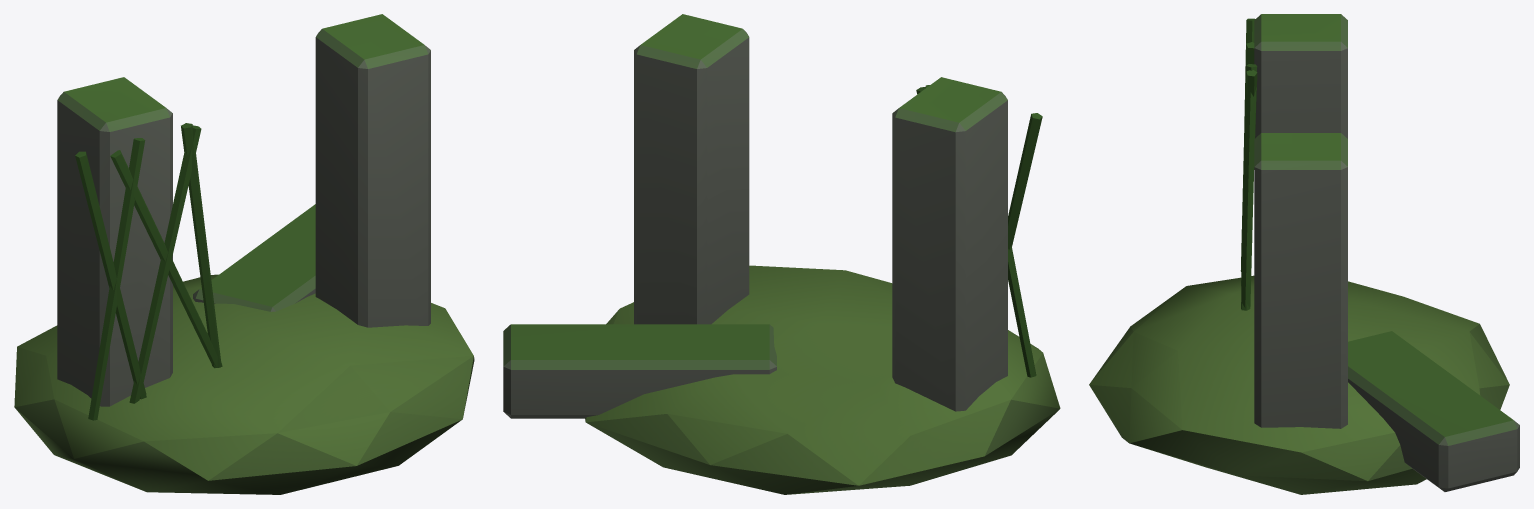
Rendered from jungle_ruin_a.glb.
The picture shows the model from 3 angles, left to right: view 1: azimuth 30°, elevation 25°; view 2: azimuth 150°, elevation 25°; view 3: azimuth 270°, elevation 25°; orthographic projection. The views are drawn at different scales.
Visible parts, largest first — view 1: jungle_ruin_a; view 2: jungle_ruin_a; view 3: jungle_ruin_a.
Part boxes in pixels (x1,y1,x2,y2): jungle_ruin_a: (14, 14, 474, 494); jungle_ruin_a: (503, 14, 1060, 494); jungle_ruin_a: (1089, 14, 1519, 494).
Bounding box in the file's own units: 1.57 × 1.15 × 1.4.
